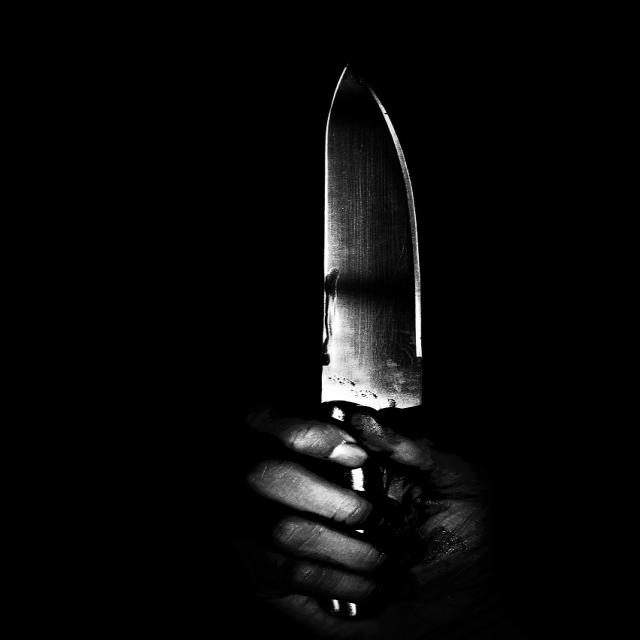knife: (322, 62, 425, 620)
